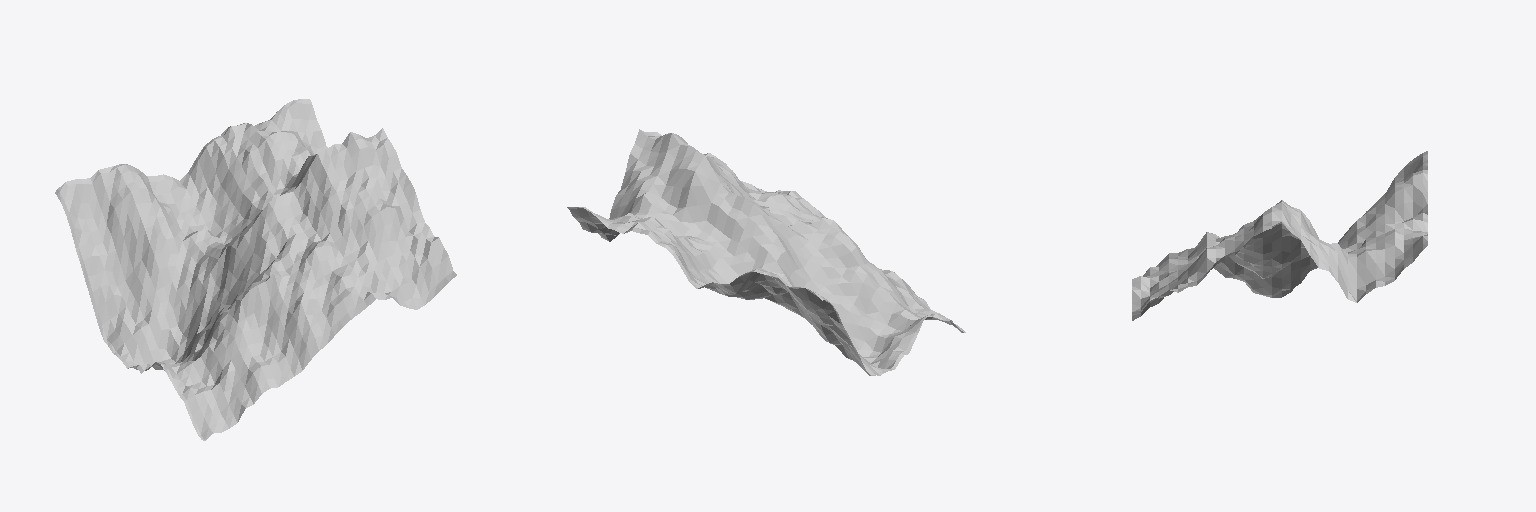
The model's file is terrain_-3_0.obj.
3 renders of one model, left to right at view 1: azimuth 30°, elevation 25°; view 2: azimuth 150°, elevation 25°; view 3: azimuth 270°, elevation 25°, orthographic.
Parts seen in each view (by area): view 1: terrain_-3_0_Plane.022; view 2: terrain_-3_0_Plane.022; view 3: terrain_-3_0_Plane.022.
Boxes of the visible parts, x1=… form: terrain_-3_0_Plane.022: x1=55, y1=99, x2=456, y2=440; terrain_-3_0_Plane.022: x1=567, y1=129, x2=965, y2=375; terrain_-3_0_Plane.022: x1=1132, y1=151, x2=1427, y2=320.
Bounding box in the file's own units: 32 × 24.06 × 32.